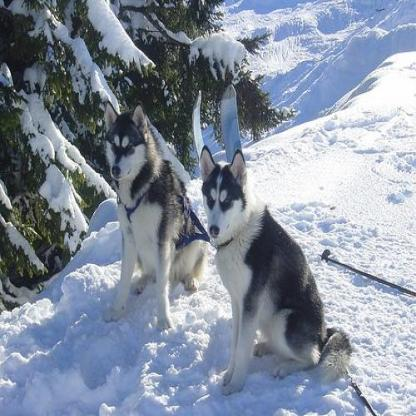Eskimo_dog: (199, 147, 354, 395), (91, 101, 209, 333)
